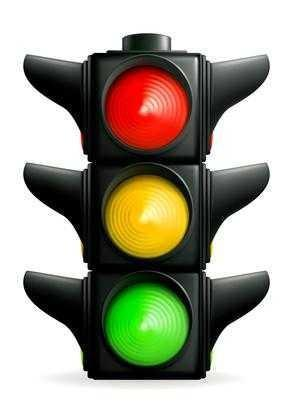5: (95, 57, 192, 156)
9: (100, 161, 201, 268)
red traffic light: (104, 275, 197, 371)
